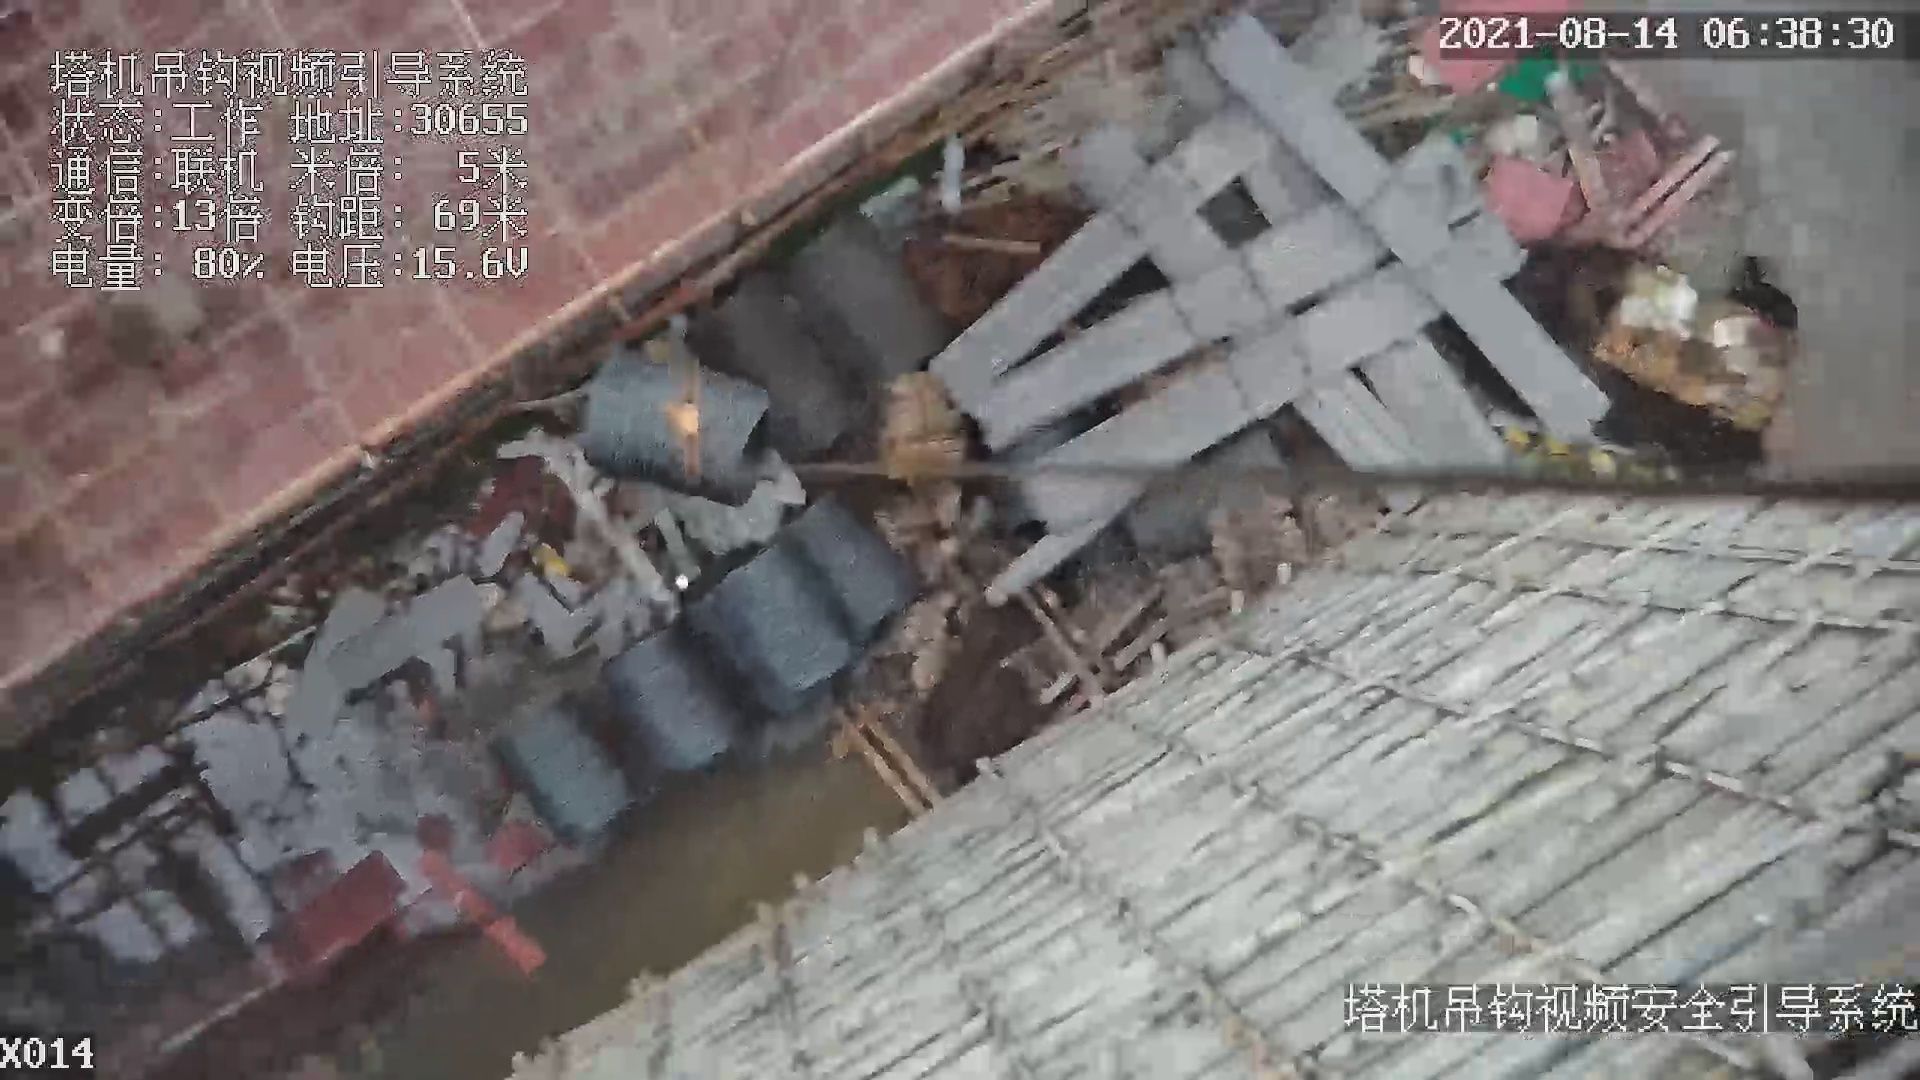hook: (673, 344, 700, 487)
